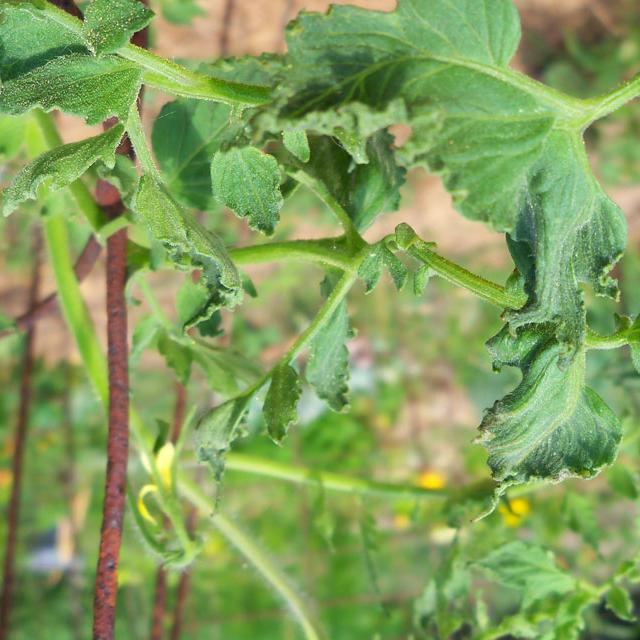Tomato leaf mosaic virus: (284, 0, 591, 233), (470, 111, 630, 524), (0, 0, 151, 128), (204, 144, 290, 239), (306, 293, 358, 426)
